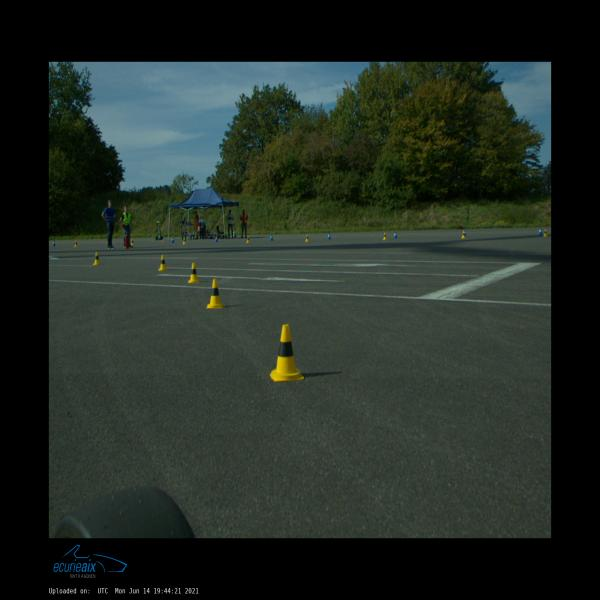blue_cone: (538, 228, 542, 235), (215, 235, 218, 242), (53, 240, 56, 246), (328, 233, 331, 239), (270, 234, 273, 240), (394, 232, 396, 238), (172, 237, 174, 243), (464, 230, 466, 236)
yellow_cone: (270, 325, 304, 381), (206, 279, 225, 308), (188, 263, 199, 283), (159, 255, 168, 271), (93, 252, 100, 265), (383, 232, 387, 240), (130, 238, 134, 246), (305, 234, 309, 242), (74, 240, 78, 247), (182, 238, 186, 245), (246, 236, 250, 243), (543, 229, 547, 236), (462, 230, 465, 239)
